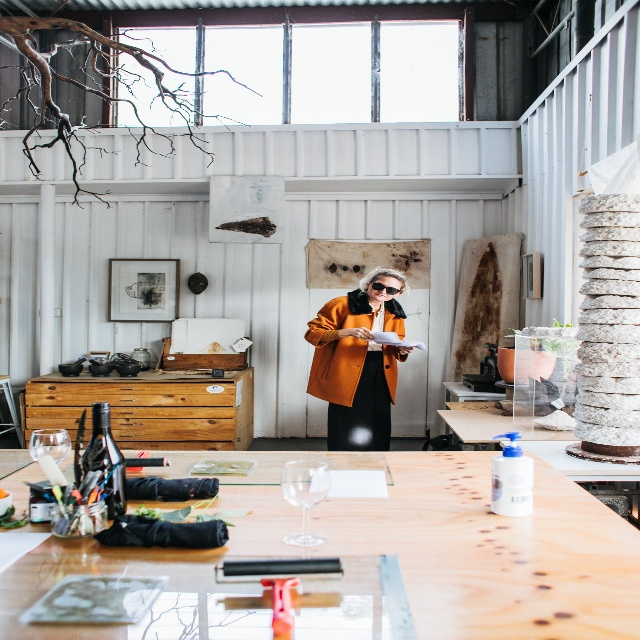Sin_guantes: (352, 326, 374, 341), (398, 344, 413, 356)
